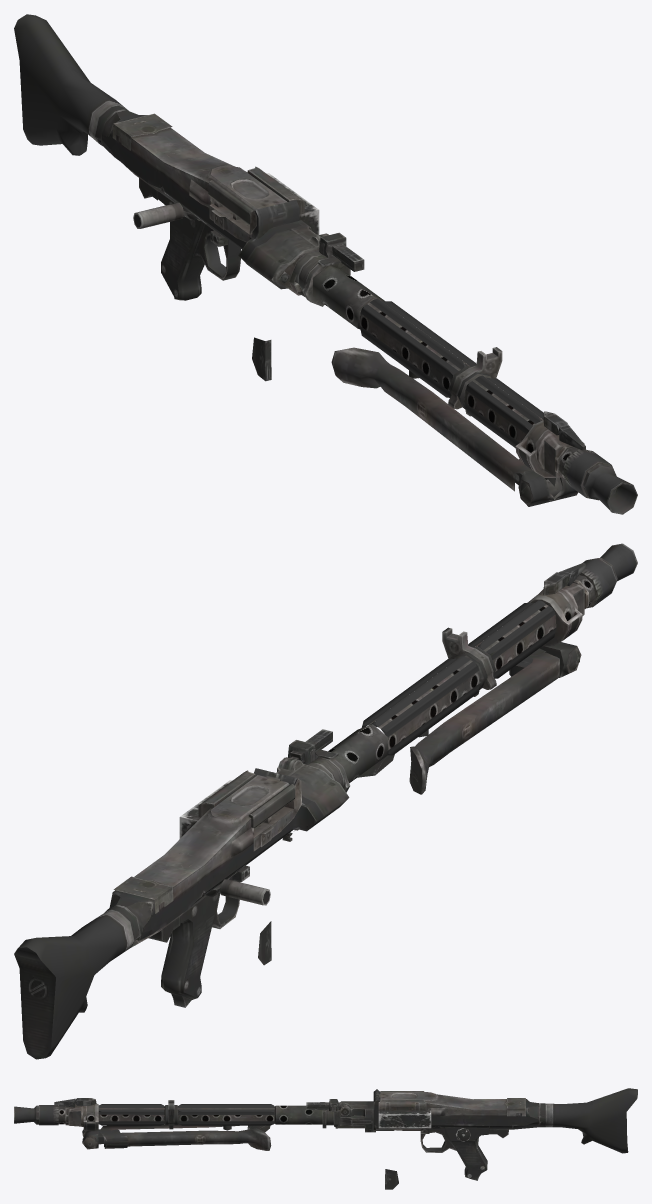
File: dlt19.lod1.glb
The picture shows the model from 3 angles, top to bottom: view 1: azimuth 30°, elevation 25°; view 2: azimuth 150°, elevation 25°; view 3: azimuth 270°, elevation 25°; orthographic projection. The views are drawn at different scales.
Size of the model in its own units: 0.1314 by 0.2172 by 1.22.
Materials: 1 (1 with a texture image).
